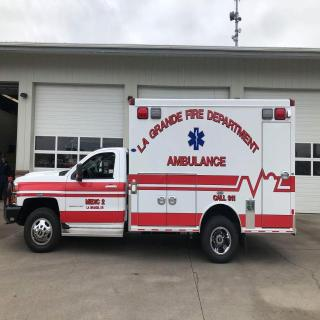Ambulance: (3, 72, 299, 270)
